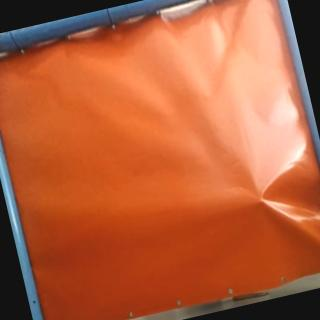Hit-hRxx: (251, 192, 270, 208)
